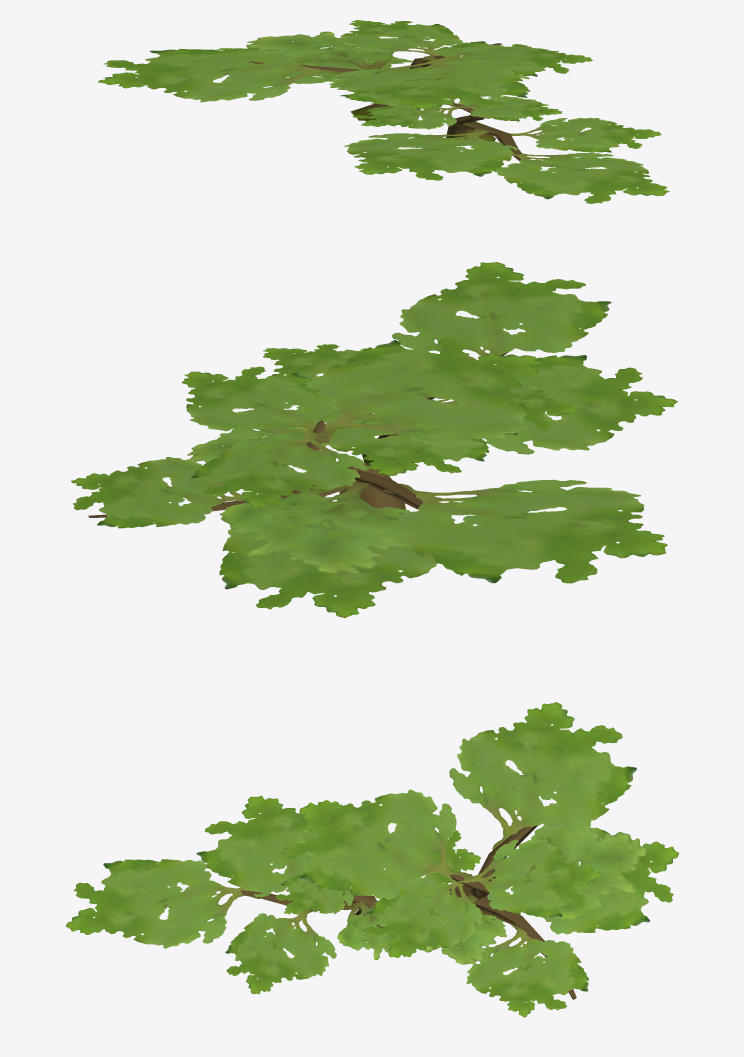
The model's file is liemo_plant_07 (16) #65350018.fbx.
The picture shows the model from 3 angles, top to bottom: view 1: azimuth 30°, elevation 25°; view 2: azimuth 150°, elevation 25°; view 3: azimuth 270°, elevation 25°; orthographic projection. The views are drawn at different scales.
Visible parts, largest first — view 1: liemo_plant_07 (16); view 2: liemo_plant_07 (16); view 3: liemo_plant_07 (16).
Boxes of the visible parts, x1=… form: liemo_plant_07 (16): x1=98, y1=20, x2=669, y2=203; liemo_plant_07 (16): x1=71, y1=262, x2=677, y2=617; liemo_plant_07 (16): x1=65, y1=702, x2=678, y2=1017.
Bounding box in the file's own units: 10.56 × 1.67 × 11.37.
